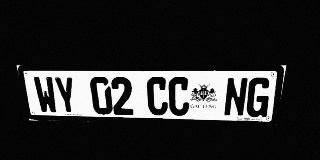0: (89, 77, 113, 115)
2: (110, 77, 133, 115)
C: (146, 77, 168, 116), (168, 77, 190, 116)
G: (245, 77, 272, 117)
N: (223, 77, 249, 117)
W: (32, 77, 59, 114)
Y: (53, 77, 78, 114)
